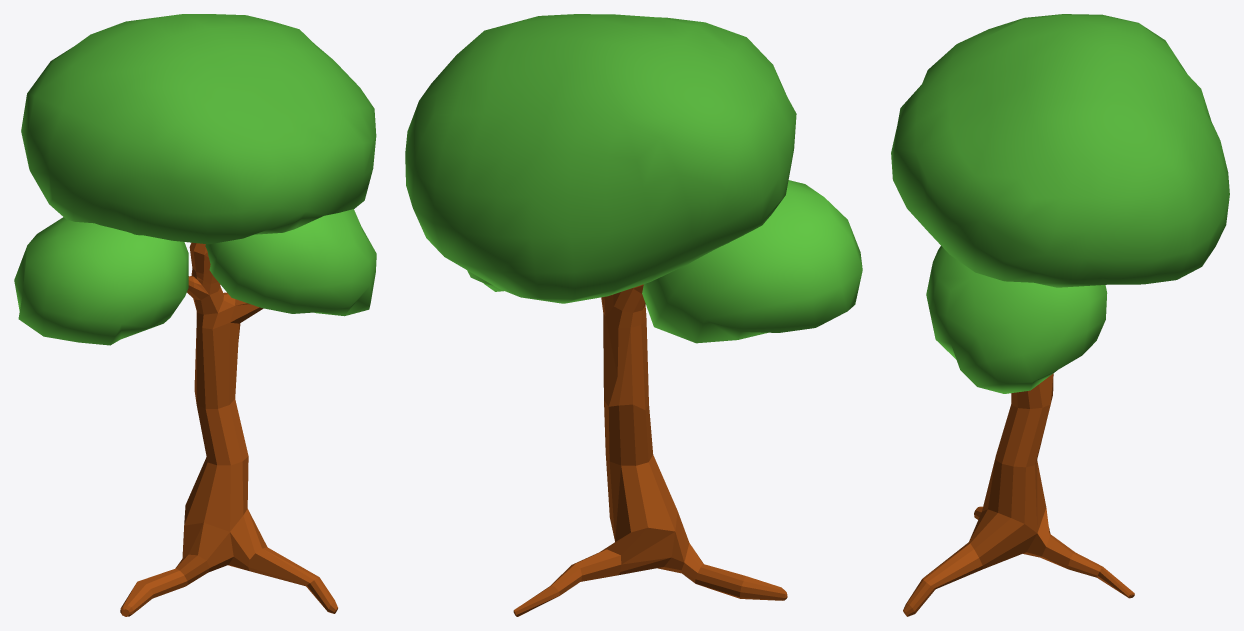
Rendered from Tree_14_Spring.fbx.
3 views of the same model, side by side, from view 1: azimuth 30°, elevation 25°; view 2: azimuth 150°, elevation 25°; view 3: azimuth 270°, elevation 25° (orthographic). The views are drawn at different scales.
Parts seen in each view (by area): view 1: Tree_14_p2_Spring, Tree_14_p1_Spring; view 2: Tree_14_p2_Spring, Tree_14_p1_Spring; view 3: Tree_14_p2_Spring, Tree_14_p1_Spring.
Part boxes in pixels (<box>): Tree_14_p2_Spring: <box>14,14,376,345</box>; Tree_14_p1_Spring: <box>120,242,337,616</box>; Tree_14_p2_Spring: <box>405,14,862,343</box>; Tree_14_p1_Spring: <box>513,284,787,616</box>; Tree_14_p2_Spring: <box>891,14,1229,393</box>; Tree_14_p1_Spring: <box>903,373,1134,616</box>.
Bounding box in the file's own units: 435 × 626 × 353.
